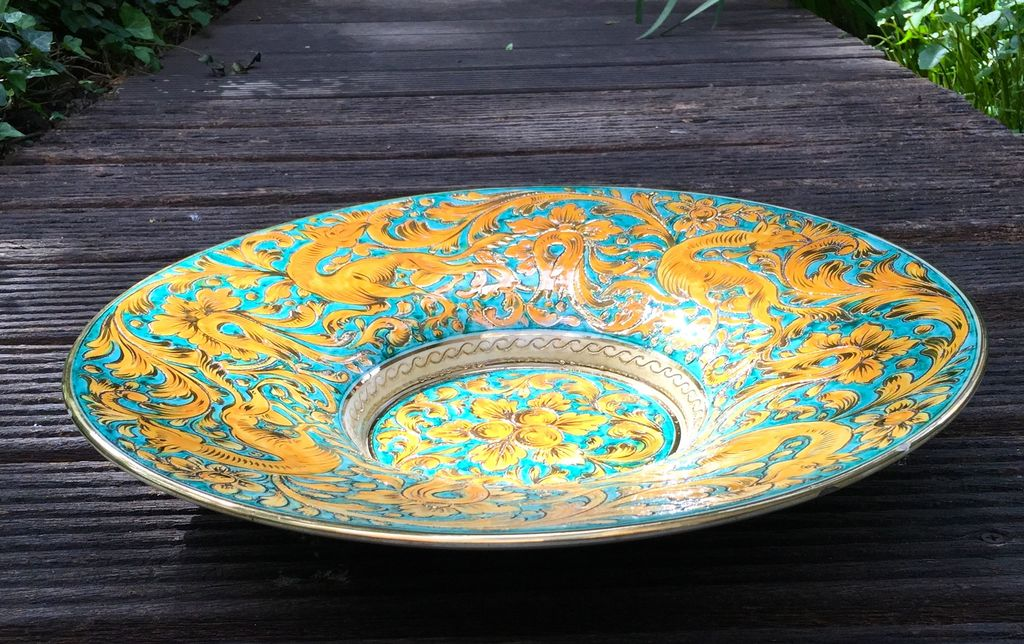plate: (119, 209, 967, 532)
